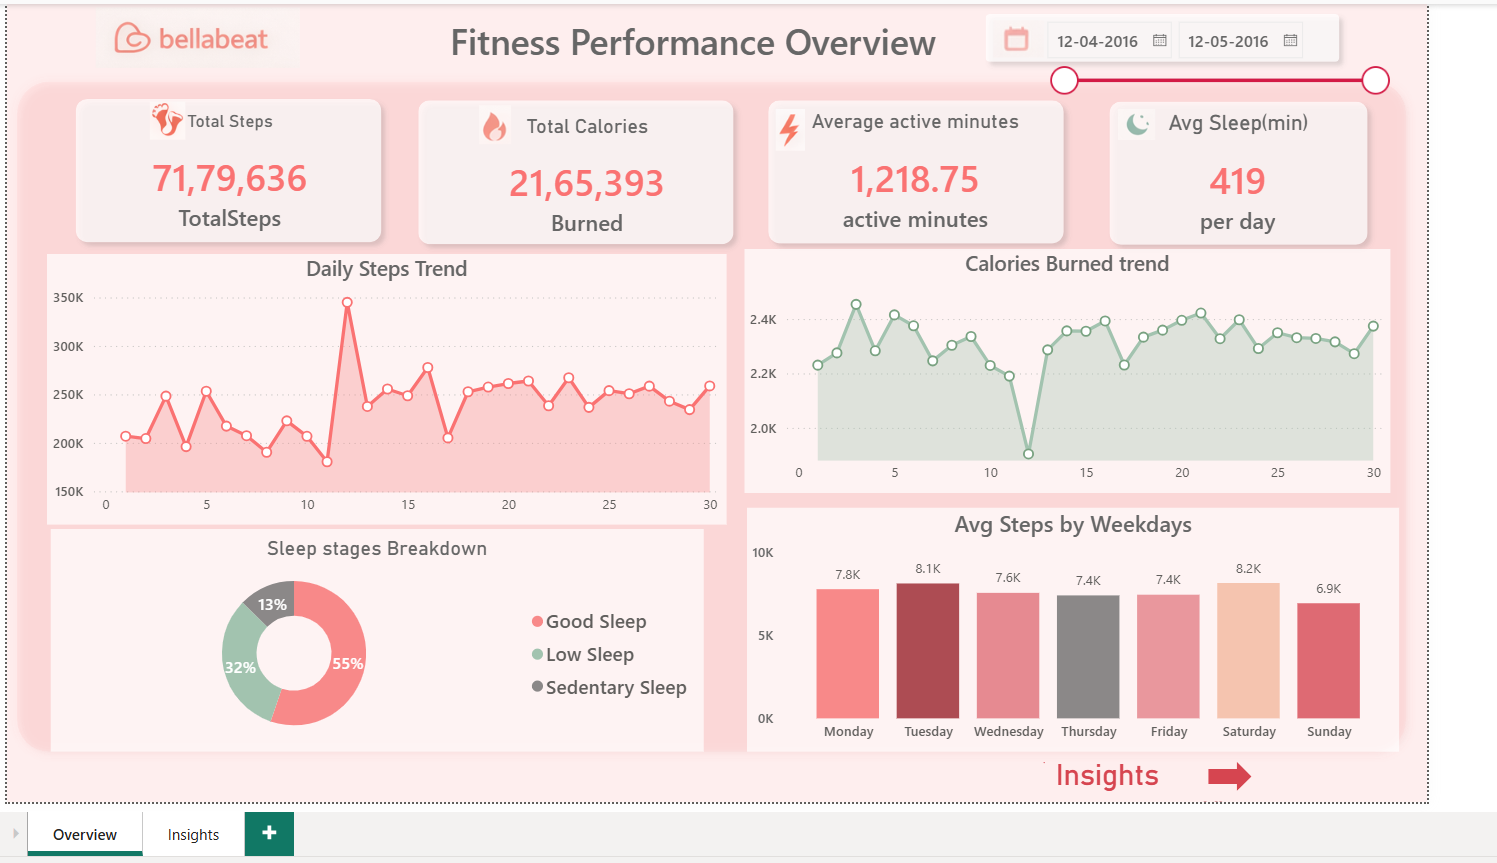

This screenshot's page, from the dashboard's own definition file:
{"tool":"powerbi","page":{"name":"Overview","canvas":[1280,720],"ordinal":0},"visuals":[{"type":"shape","box":[0,61.1,1270.5,622.4],"z":0},{"type":"shape","box":[362.2,77.8,302.2,147.8],"z":0,"group":"g1"},{"type":"shape","box":[677.8,77.8,284.4,147.1],"z":0,"group":"g2"},{"type":"shape","box":[985.6,78.9,250.7,147.1],"z":0,"group":"g3"},{"type":"actionButton","title":"View Detailed  Insights","box":[1070.8,714.4,63.9,5.9],"z":0,"group":"g5"},{"type":"shape","box":[873.3,0,336.7,61.1],"z":1000},{"type":"cardVisual","title":"Average active minutes","fields":{"Data":["bellabeat master_daily_final.avg active minutes"]},"box":[687.8,95.1,263.1,129.8],"z":1000,"group":"g2"},{"type":"cardVisual","title":"Avg Sleep(min)","fields":{"Data":["Avg(bellabeat master_daily_final.TotalMinutesAsleep)"]},"box":[994.4,96.2,231.9,129.8],"z":1000,"group":"g3"},{"type":"cardVisual","title":"Total Calories","fields":{"Data":["bellabeat master_daily_final.Total Calories Burned"]},"box":[399.5,99.1,248.8,127.6],"z":1000,"group":"g1"},{"type":"shape","box":[934.2,683.6,1.8,2.1],"z":1000,"group":"g5"},{"type":"image","box":[79.8,0,183.7,60.6],"z":2000},{"type":"textbox","box":[288.5,6.7,659.6,53.8],"z":3000},{"type":"shape","box":[53.3,76.7,293.5,147.1],"z":3000,"group":"g4"},{"type":"group","id":"g1","title":"Group 1","box":[362.2,77.8,302.2,148.9],"z":4000},{"type":"cardVisual","title":"Total Steps","fields":{"Data":["Sum(bellabeat master_daily_final.TotalSteps)"]},"box":[65.5,96.7,271.5,126.9],"z":4000,"group":"g4"},{"type":"group","id":"g2","title":"Group 1","box":[677.8,77.8,284.4,147.8],"z":5000},{"type":"group","id":"g3","title":"Group 1","box":[985.6,78.9,251.1,147.8],"z":6000},{"type":"group","id":"g4","title":"Group 2","box":[53.3,76.7,293.3,147.8],"z":7000},{"type":"lineChart","title":"Daily Steps Trend","fields":{"Y":["bellabeat master_daily_final.Total Steps"],"Category":["bellabeat master_daily_final.activity_date.Variation.Date Hierarchy.Day"]},"box":[36,225.6,612.8,244.2],"z":8000},{"type":"image","box":[400,91.1,80,35.6],"z":9000},{"type":"image","box":[995.6,94.4,46.7,27.8],"z":10000},{"type":"lineChart","title":"Calories Burned trend","fields":{"Y":["bellabeat master_daily_final.Avg Daily Calories"],"Category":["bellabeat master_daily_final.activity_date.Variation.Date Hierarchy.Day"]},"box":[664.4,221.1,582.2,220],"z":11000},{"type":"donutChart","title":"Sleep stages Breakdown","fields":{"Category":["bellabeat master_daily_final.Sleep Category"],"Y":["bellabeat master_daily_final.Avg Sleep Hours"]},"box":[40,473.3,588.9,201.1],"z":12000},{"type":"slicer","fields":{"Values":["bellabeat master_daily_final.activity_date"]},"box":[925.7,6.1,330.2,88],"z":13000},{"type":"image","box":[888.9,14.4,45.6,33.3],"z":14000},{"type":"image","box":[79.5,88,129.6,34.2],"z":15000},{"type":"image","box":[687.8,94.4,37.8,37.8],"z":16000},{"type":"columnChart","title":"Avg Steps by Weekdays","fields":{"Category":["bellabeat master_daily_final.Day Name"],"Y":["bellabeat master_daily_final.Avg Daily steps"]},"box":[667.7,453.7,588.2,220.1],"z":17000},{"type":"group","id":"g5","title":"Group 3","box":[934.2,683.6,200.5,36.7],"z":19000,"group":"g6"},{"type":"group","id":"g6","title":"Group 4","box":[934.2,683.6,200.5,36.7],"z":19001},{"type":"actionButton","title":"Insights","box":[946,680,184.6,34.2],"z":19002,"group":"g7"},{"type":"shape","box":[1083.4,683.6,39.1,26.9],"z":19003,"group":"g7"},{"type":"group","id":"g7","title":"Group 5","box":[946,680,184.6,34.2],"z":19004}]}

Visuals, with their boxes on the page's 1280x720 design canvas (x1, y1, x2, y2). These are canvas units, not pixel positions in the 1497x863 screenshot, which may show the page scaled, cropped or inside an application window:
shape: [left=0, top=61, right=1270, bottom=684]
shape: [left=362, top=78, right=664, bottom=226]
shape: [left=678, top=78, right=962, bottom=225]
shape: [left=986, top=79, right=1236, bottom=226]
"View Detailed  Insights" actionButton: [left=1071, top=714, right=1135, bottom=720]
shape: [left=873, top=0, right=1210, bottom=61]
"Average active minutes" cardVisual: [left=688, top=95, right=951, bottom=225]
"Avg Sleep(min)" cardVisual: [left=994, top=96, right=1226, bottom=226]
"Total Calories" cardVisual: [left=400, top=99, right=648, bottom=227]
shape: [left=934, top=684, right=936, bottom=686]
image: [left=80, top=0, right=264, bottom=61]
textbox: [left=288, top=7, right=948, bottom=60]
shape: [left=53, top=77, right=347, bottom=224]
"Group 1" group: [left=362, top=78, right=664, bottom=227]
"Total Steps" cardVisual: [left=66, top=97, right=337, bottom=224]
"Group 1" group: [left=678, top=78, right=962, bottom=226]
"Group 1" group: [left=986, top=79, right=1237, bottom=227]
"Group 2" group: [left=53, top=77, right=347, bottom=224]
"Daily Steps Trend" lineChart: [left=36, top=226, right=649, bottom=470]
image: [left=400, top=91, right=480, bottom=127]
image: [left=996, top=94, right=1042, bottom=122]
"Calories Burned trend" lineChart: [left=664, top=221, right=1247, bottom=441]
"Sleep stages Breakdown" donutChart: [left=40, top=473, right=629, bottom=674]
slicer - bellabeat master_daily_final.activity_date: [left=926, top=6, right=1256, bottom=94]
image: [left=889, top=14, right=934, bottom=48]
image: [left=80, top=88, right=209, bottom=122]
image: [left=688, top=94, right=726, bottom=132]
"Avg Steps by Weekdays" columnChart: [left=668, top=454, right=1256, bottom=674]
"Group 3" group: [left=934, top=684, right=1135, bottom=720]
"Group 4" group: [left=934, top=684, right=1135, bottom=720]
"Insights" actionButton: [left=946, top=680, right=1131, bottom=714]
shape: [left=1083, top=684, right=1122, bottom=710]
"Group 5" group: [left=946, top=680, right=1131, bottom=714]
